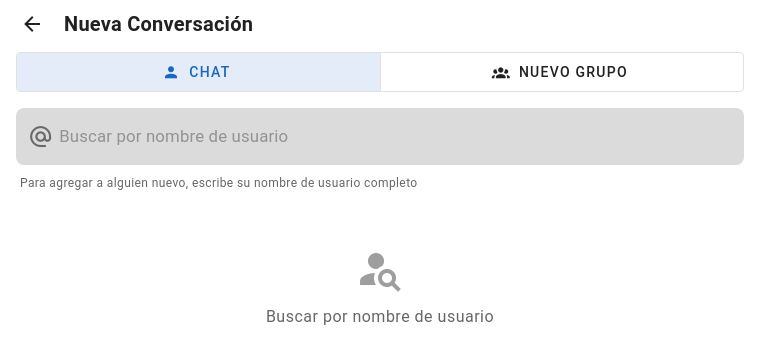
Test case: NewConversationView › avisa cuando el usuario no existe
In the field with placeholder "Buscar por nombre de usuario": [393, 137] box [53, 108, 732, 165], type "nadie"
Wait 500 ms
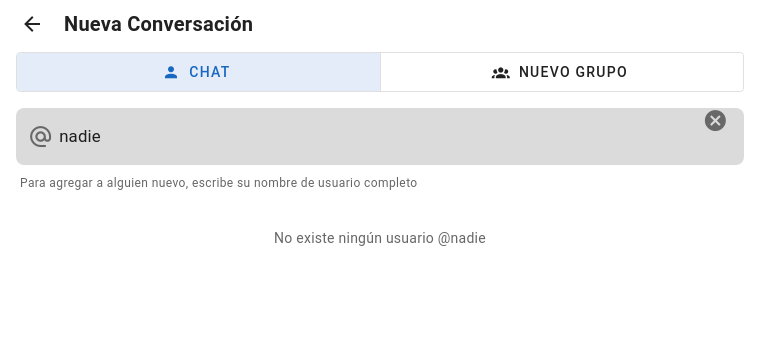
Result: the text "No existe ningún usuario @nadie" is shown at [274, 230, 486, 246]
